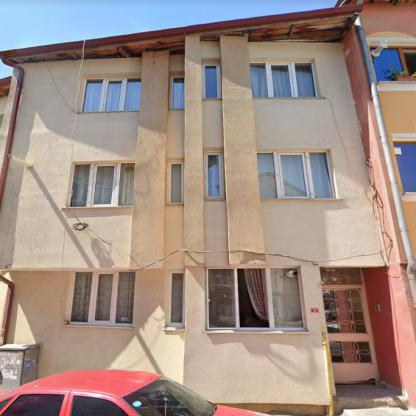door: (322, 284, 380, 382)
window: (207, 267, 306, 331), (258, 150, 335, 198), (68, 271, 134, 326), (67, 162, 134, 207), (251, 62, 315, 97), (80, 78, 141, 112), (372, 46, 414, 81), (394, 140, 416, 191), (166, 270, 184, 328), (204, 150, 224, 199), (166, 160, 184, 204), (321, 267, 363, 284), (203, 62, 220, 99), (170, 74, 185, 109)
